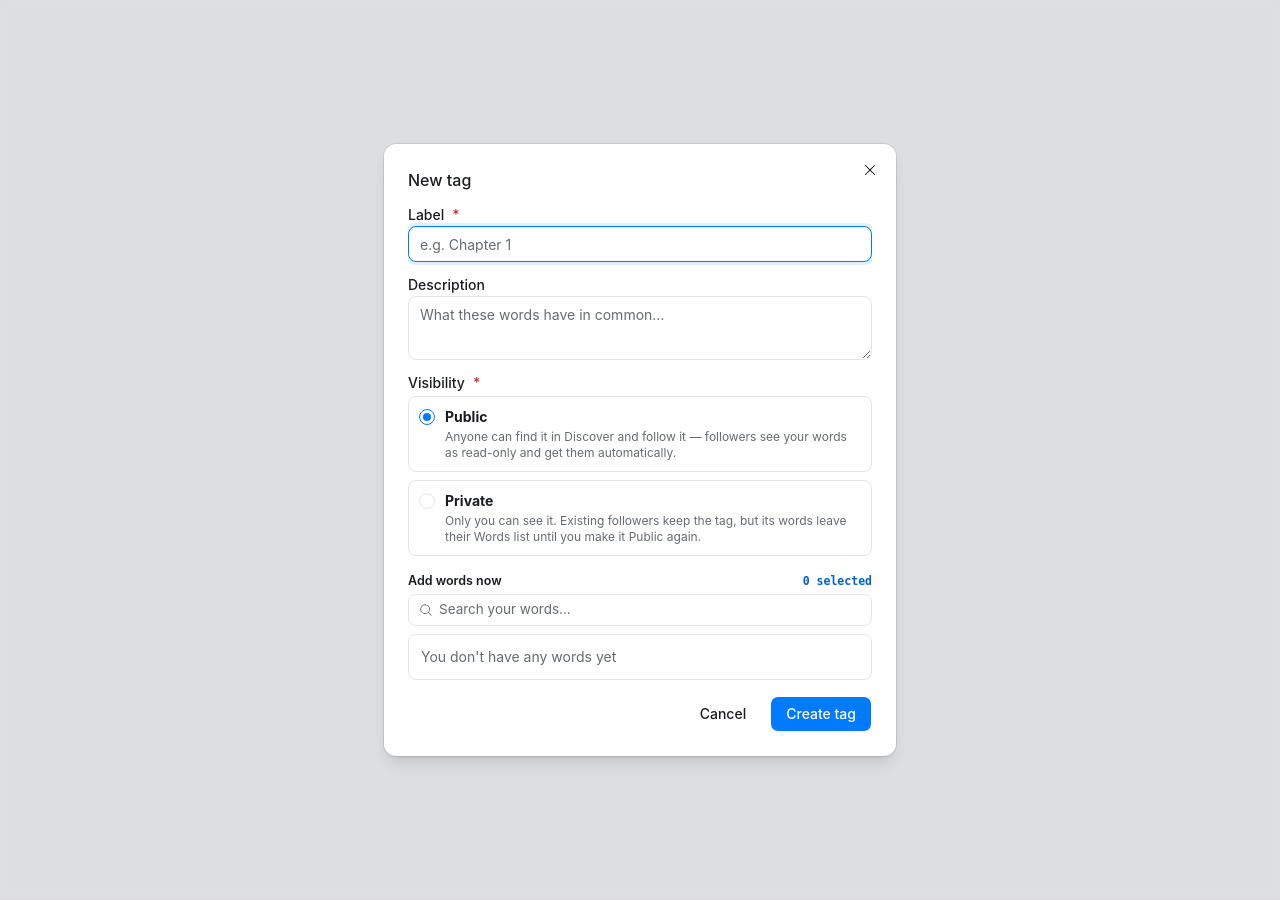
Test: TagFormDialog — create › shows an inline conflict error for a label already in use, without closing
Step 1. Type "Kitchen" into the field labelled "Label *" → (640, 244), box [408,226,872,262]
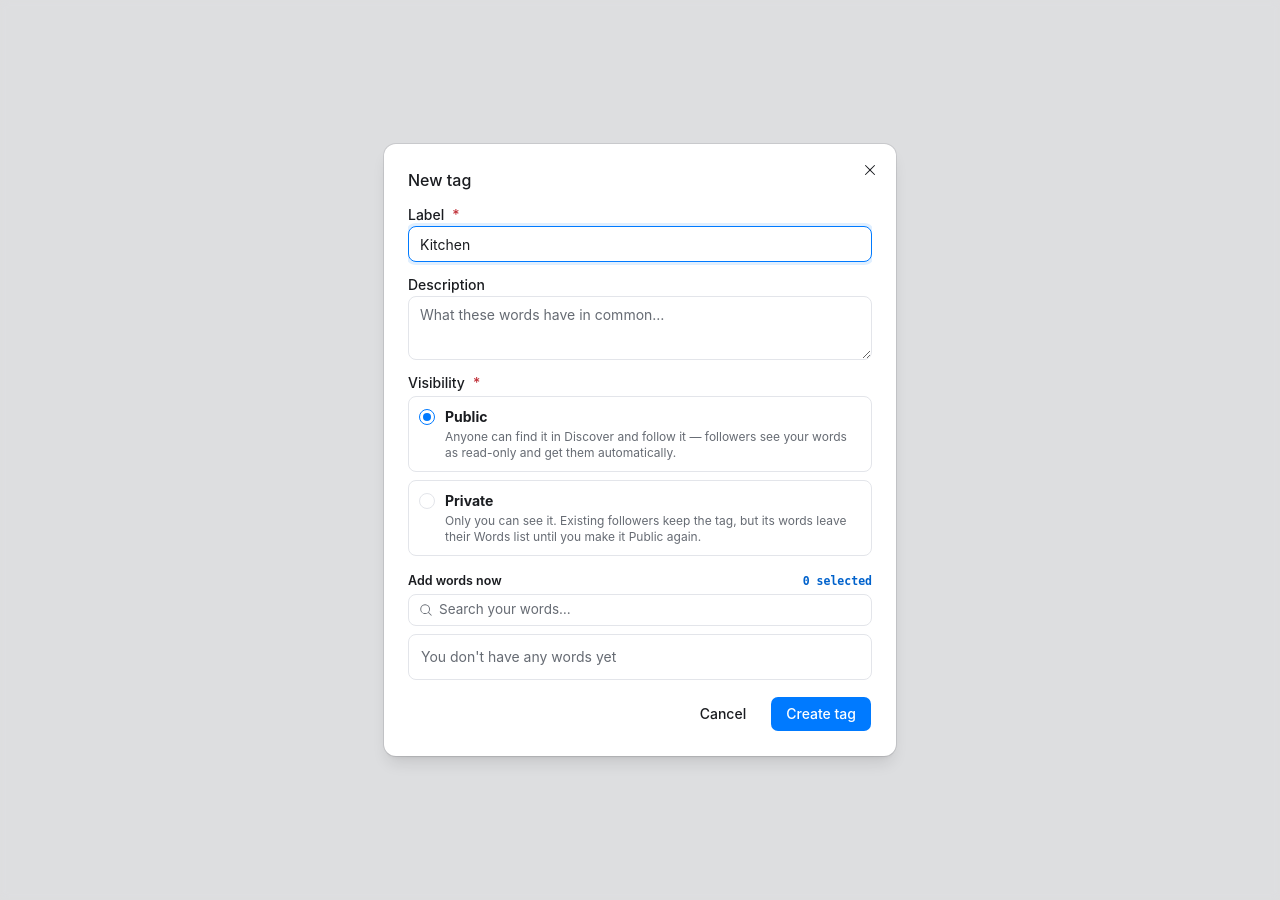
Step 2. Click the button "Create tag" → (821, 714), box [770,696,872,732]
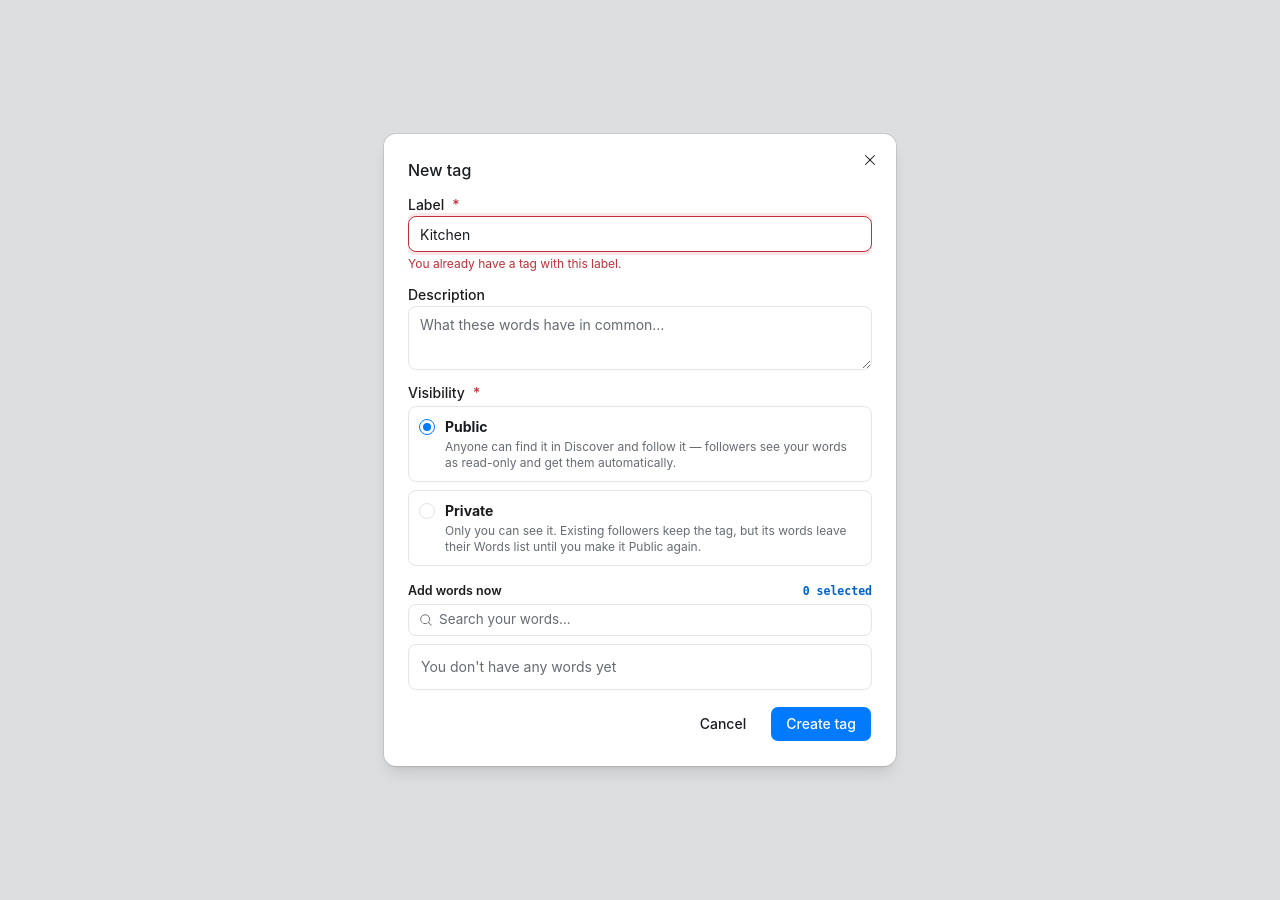
Expected: the text "You already have a tag with this label." is shown, [408,256,622,271]
